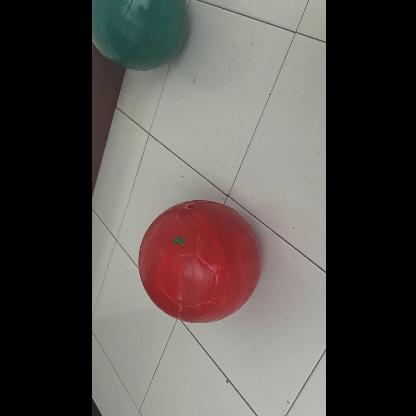red_ball: (138, 202, 258, 322)
